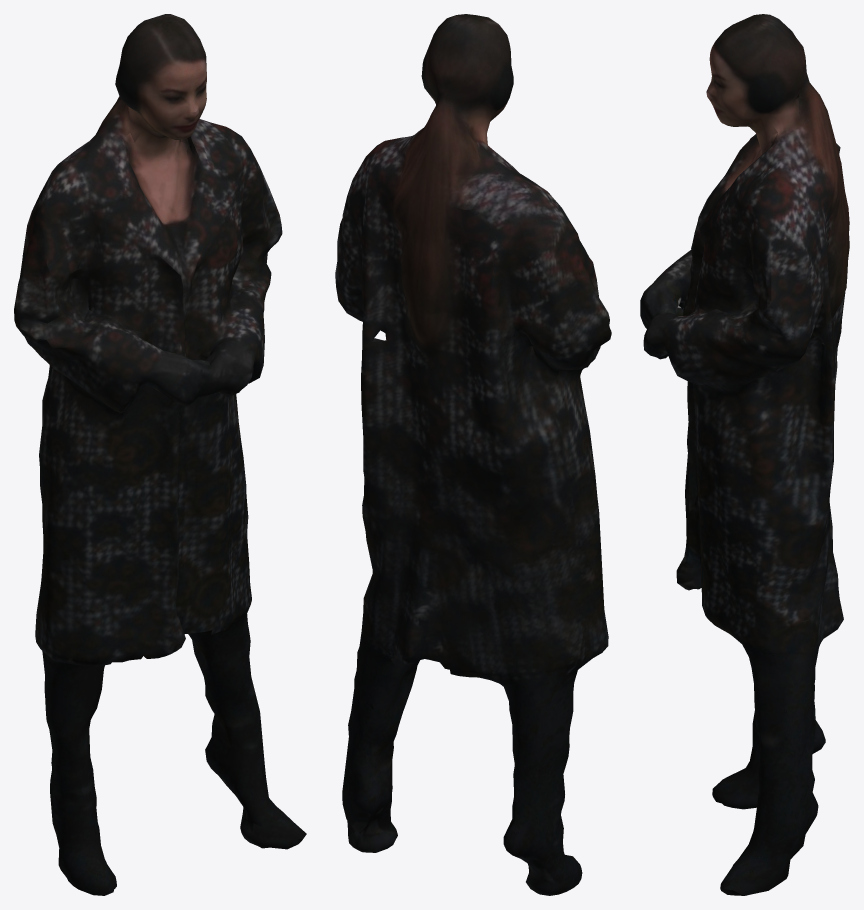
File: evercoast.0038.gltf
The picture shows the model from 3 angles, left to right: view 1: azimuth 30°, elevation 25°; view 2: azimuth 150°, elevation 25°; view 3: azimuth 270°, elevation 25°; orthographic projection. The views are drawn at different scales.
Visible parts, largest first — view 1: HIGH; view 2: HIGH; view 3: HIGH.
Part boxes in pixels (left/top/right/bottom): HIGH: left=14, top=14, right=306, bottom=895; HIGH: left=335, top=14, right=611, bottom=895; HIGH: left=640, top=14, right=849, bottom=895.
Size of the model in its own units: 0.6115 by 1.83 by 0.4229.
1 material, 1 textured.
